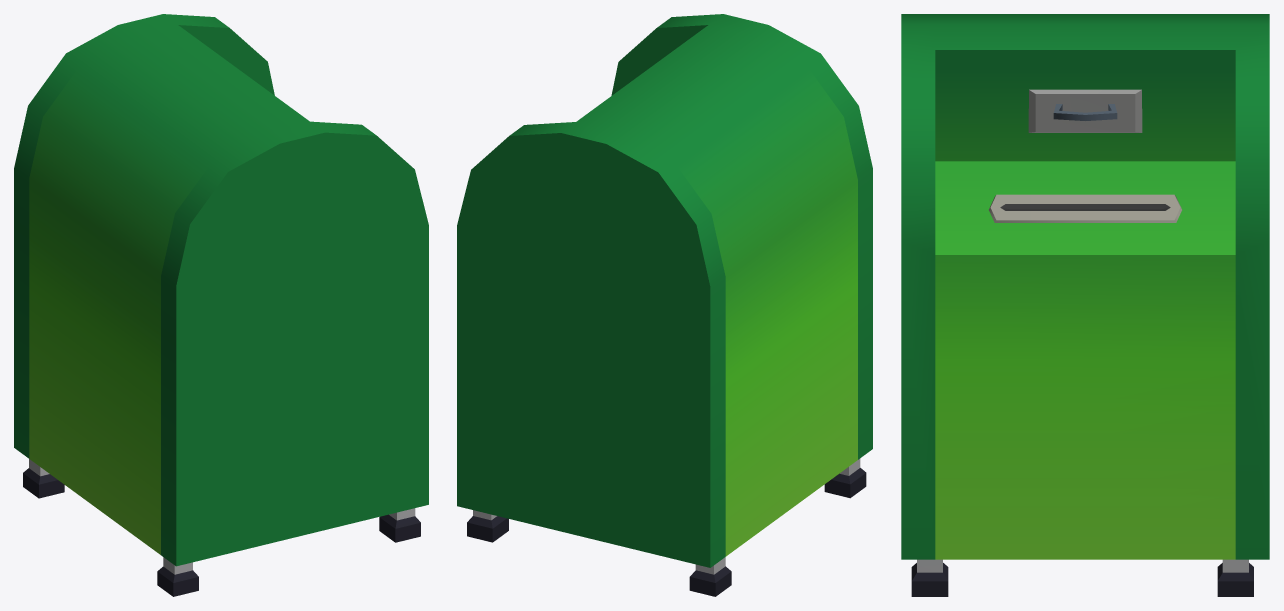
The model's file is PostBox_1_B.fbx.
The picture shows the model from 3 angles, left to right: view 1: azimuth 30°, elevation 25°; view 2: azimuth 150°, elevation 25°; view 3: azimuth 270°, elevation 25°; orthographic projection. The views are drawn at different scales.
Parts seen in each view (by area): view 1: PostBox_1_B; view 2: PostBox_1_B; view 3: PostBox_1_B.
Part boxes in pixels (x1,y1,x2,y2): PostBox_1_B: [14, 14, 428, 596]; PostBox_1_B: [457, 14, 872, 596]; PostBox_1_B: [901, 14, 1269, 596].
Bounding box in the file's own units: 51.21 × 83.66 × 56.89.
